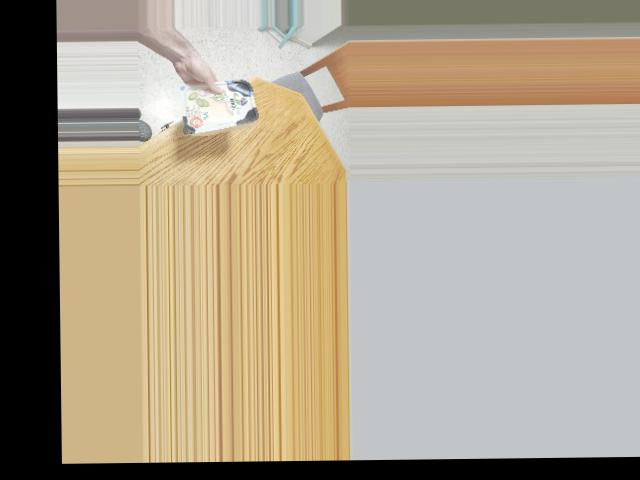cheese: (190, 69, 253, 132)
